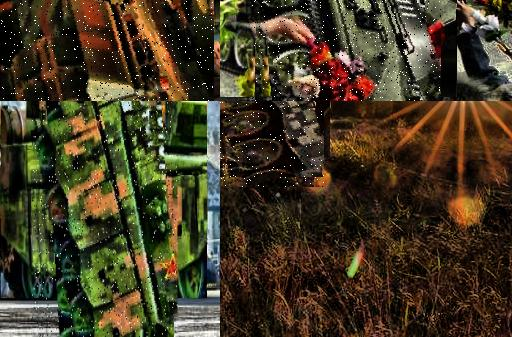tanks: (33, 102, 178, 337), (1, 1, 215, 102), (253, 1, 442, 102), (222, 102, 325, 188)
